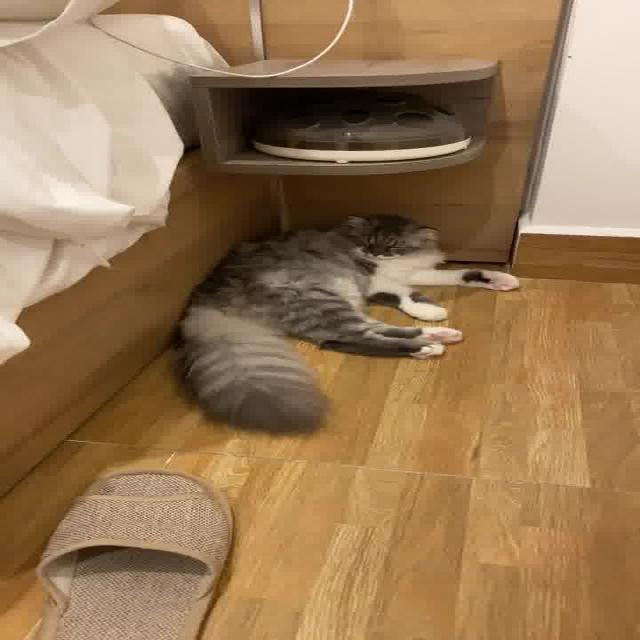cat: (164, 194, 523, 438)
